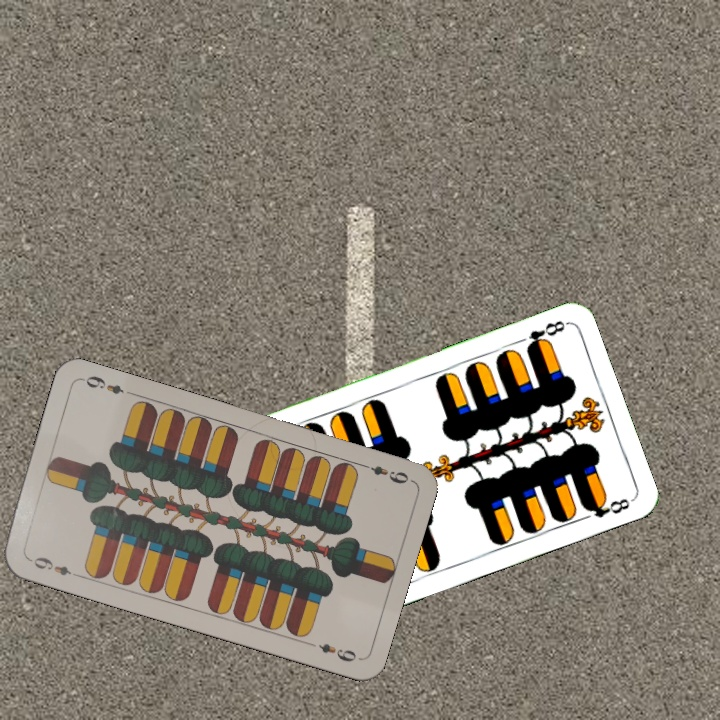E8: (522, 316, 569, 354)
E9: (24, 552, 82, 580), (356, 459, 412, 487)
